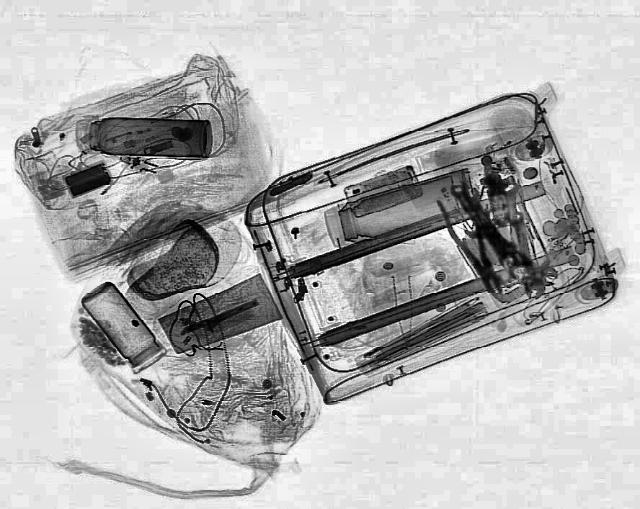Pliers: (432, 194, 516, 300)
Wrench: (441, 180, 537, 282)
